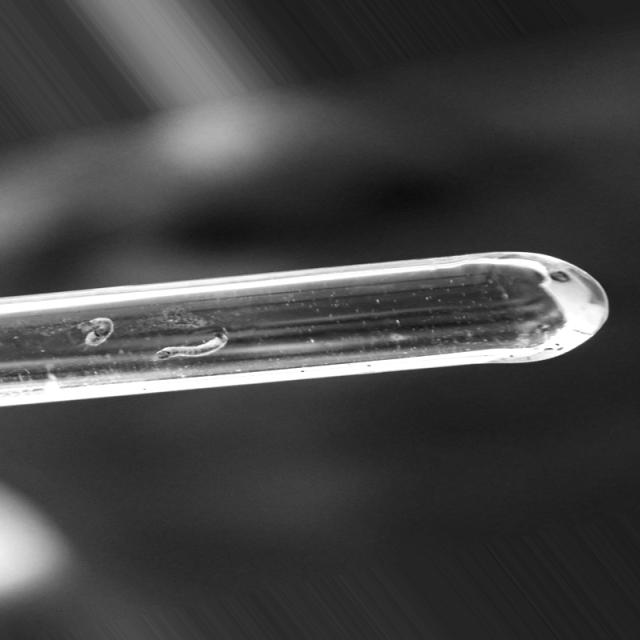larvas: (160, 332, 227, 366), (79, 318, 113, 350)
